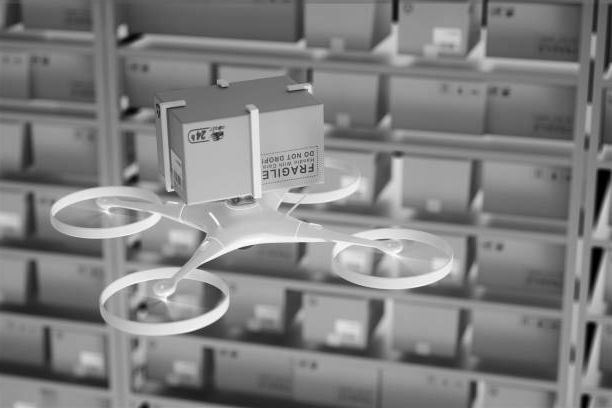Drone: (48, 156, 458, 335)
